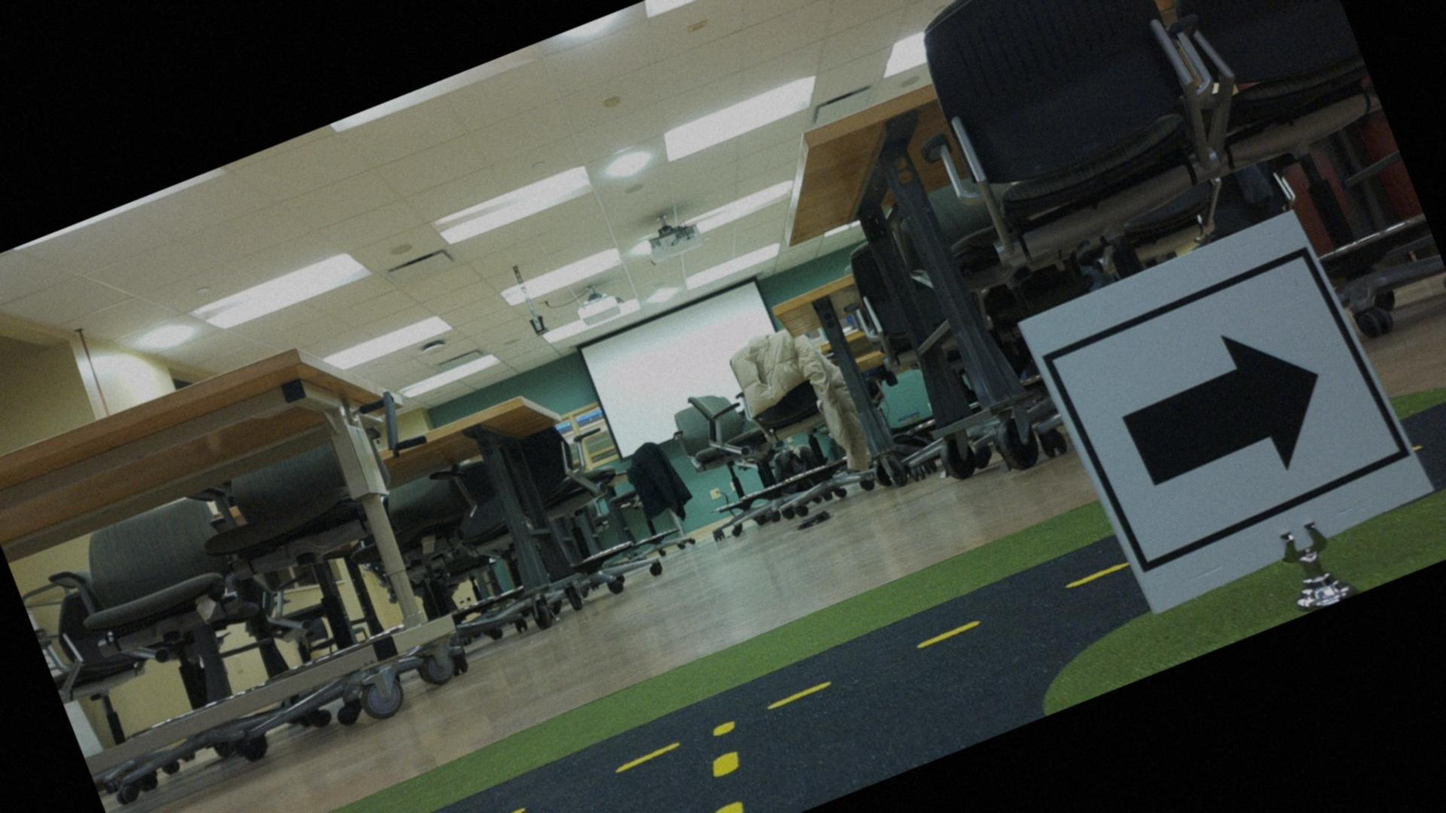turnleft: (1034, 219, 1410, 608)
yellowline: (154, 558, 1133, 812), (673, 716, 773, 812)
